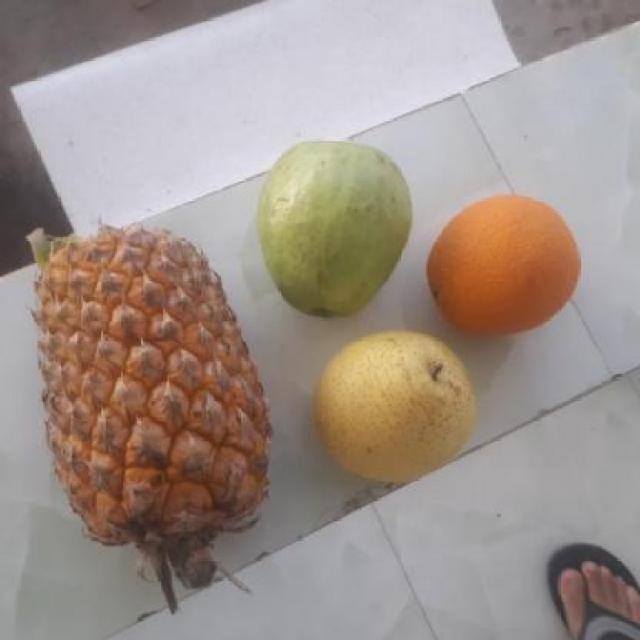guava: (254, 137, 417, 318)
oren: (422, 195, 583, 334)
pear: (303, 328, 477, 482)
pineapple: (26, 234, 266, 554)
